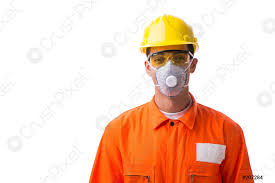Helmet: (133, 15, 198, 50)
Mask: (150, 66, 186, 98)
No-jacket: (100, 103, 240, 183)
